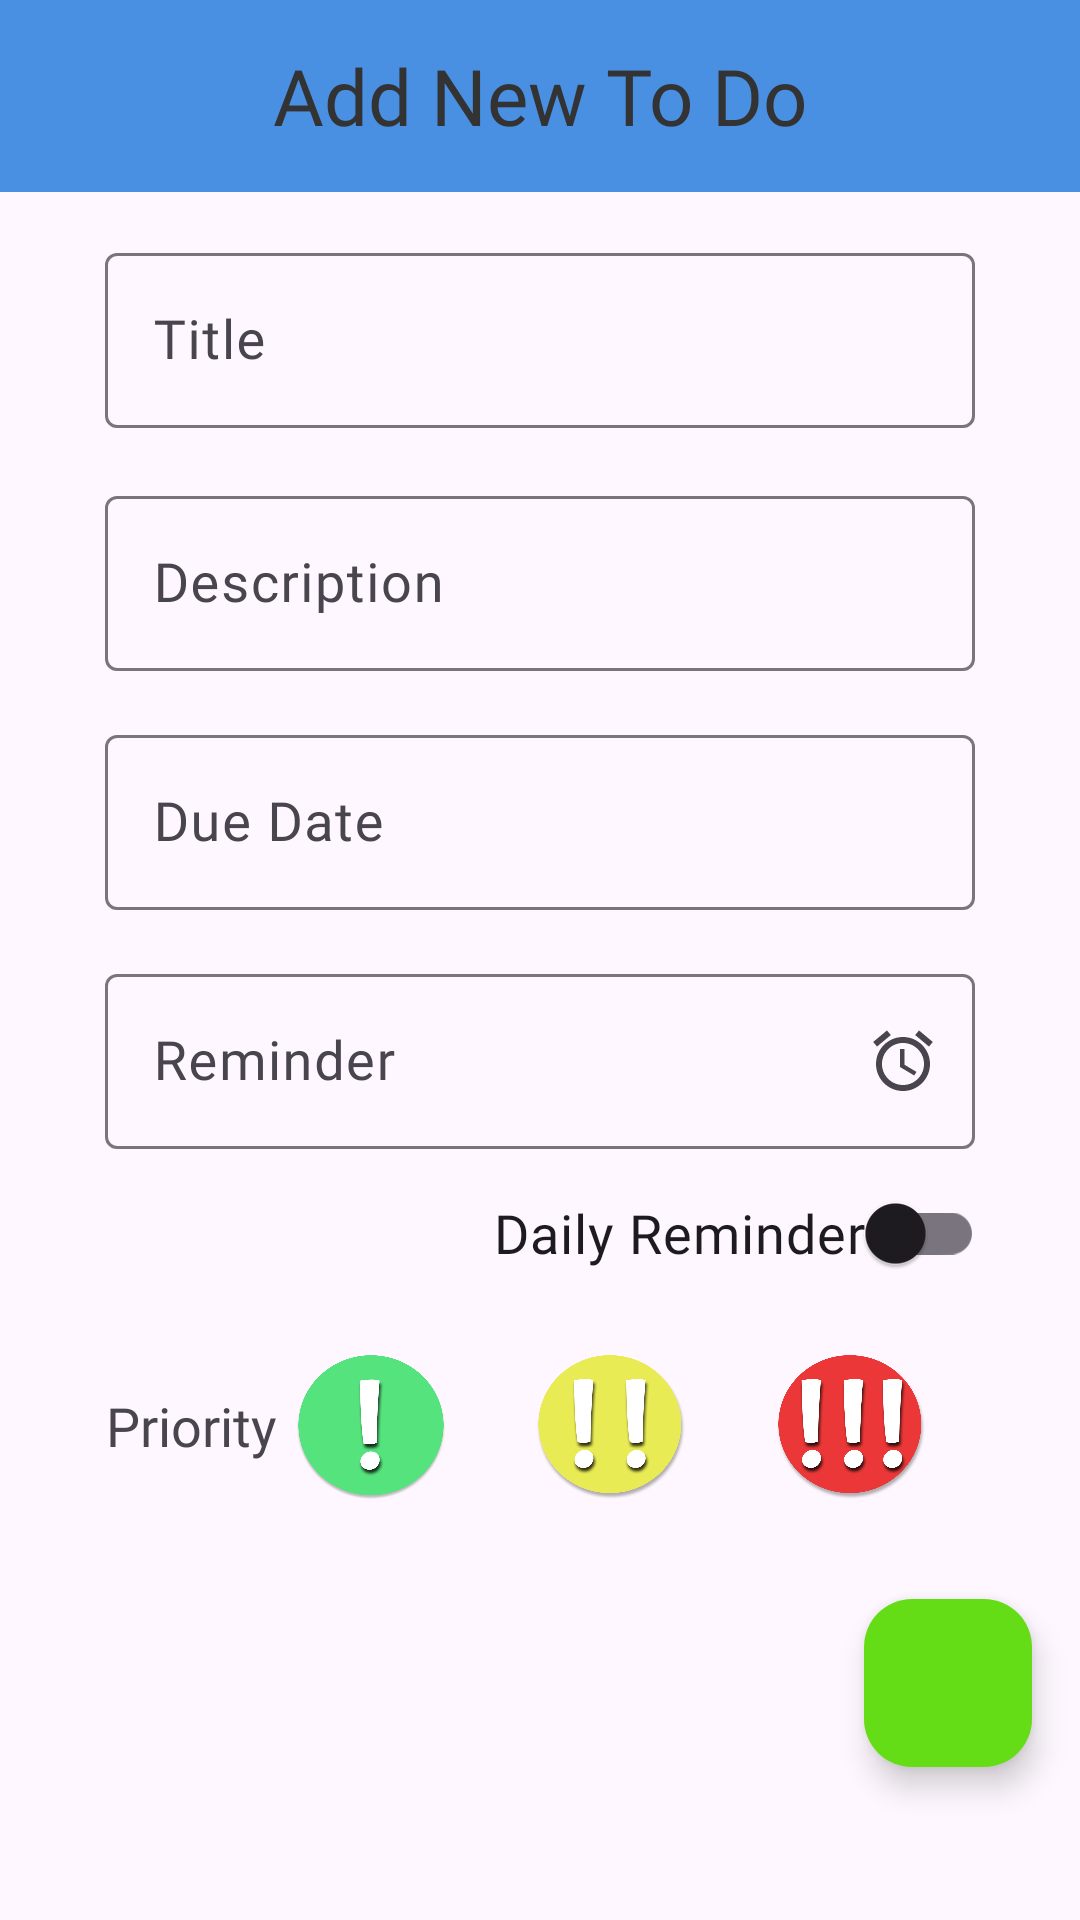

Screen size 1080*1920. Icon name, then its center in pixels as [x,y]:
high: [850,1426]
low: [371,1426]
medium: [610,1426]
